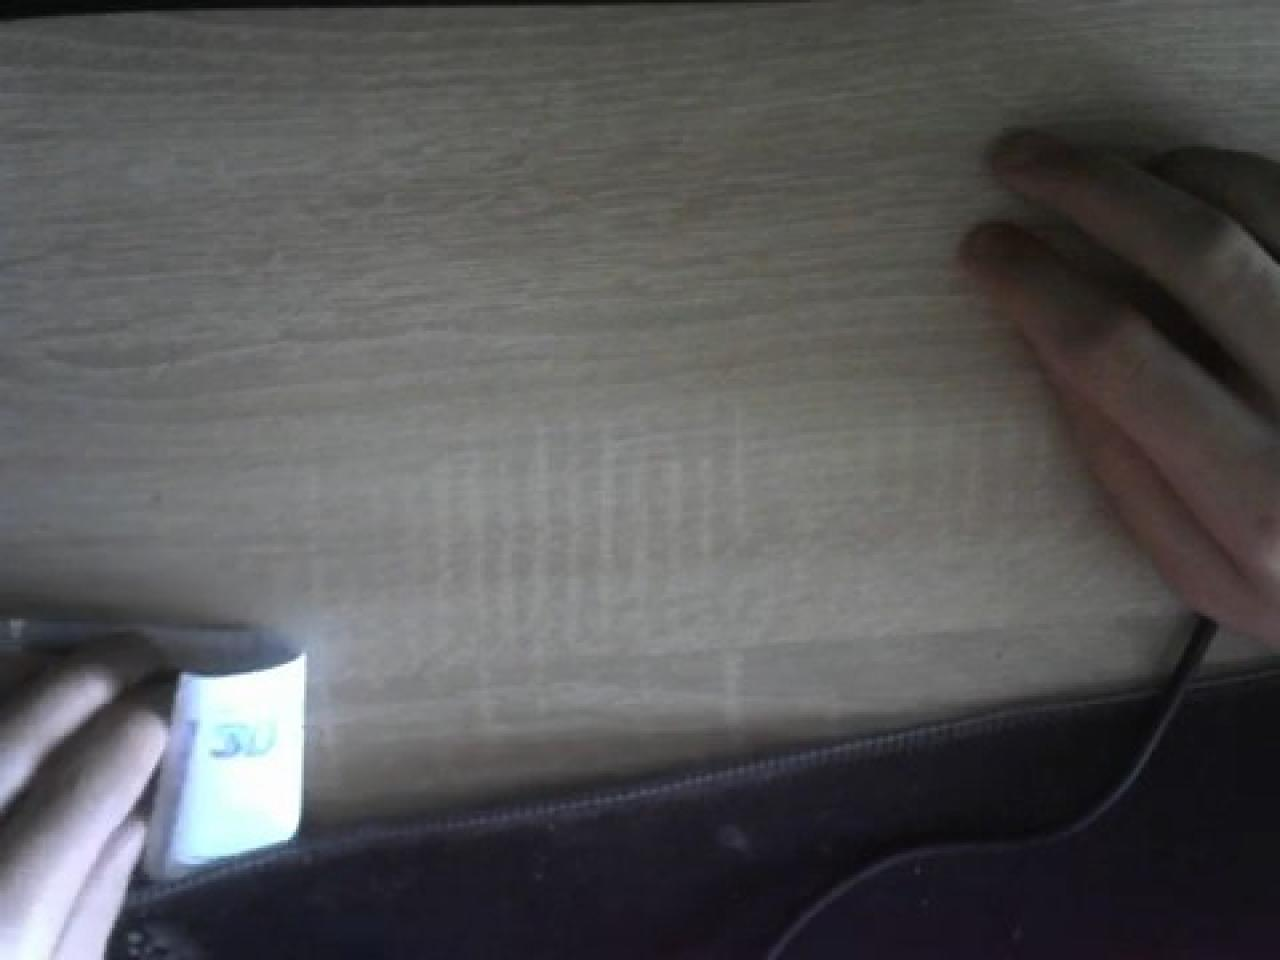20leva: (144, 645, 309, 880)
